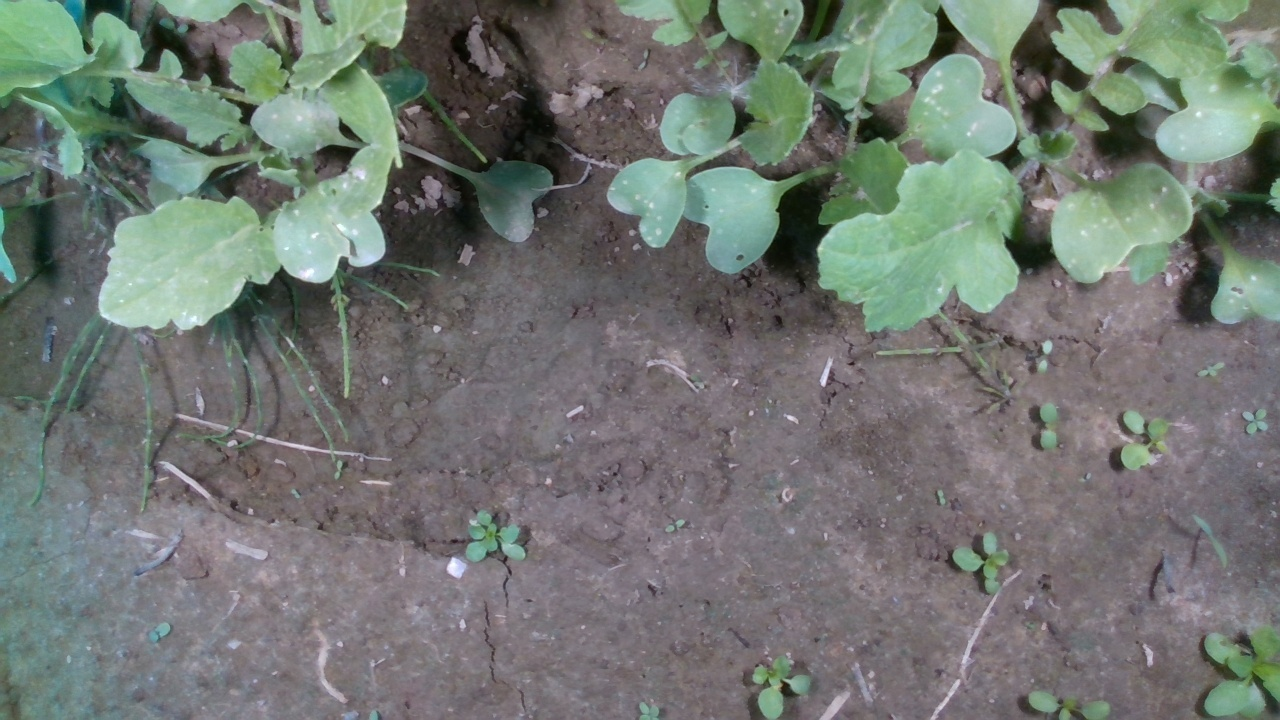weed: (951, 530, 1009, 596), (1120, 408, 1171, 474), (1191, 515, 1228, 569), (1039, 401, 1057, 451), (1240, 406, 1269, 434), (1036, 340, 1054, 375), (1195, 360, 1226, 379), (148, 621, 171, 643), (664, 518, 686, 533), (333, 457, 343, 481), (936, 488, 945, 505), (290, 488, 301, 501)
